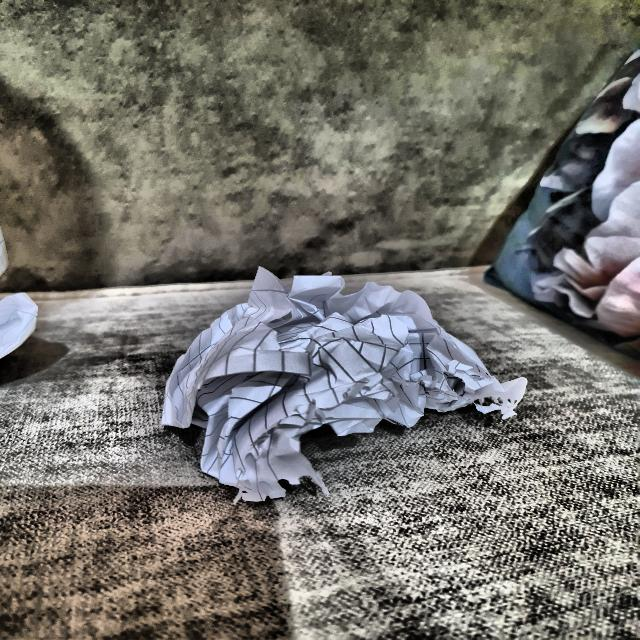Paper: (159, 273, 515, 491)
